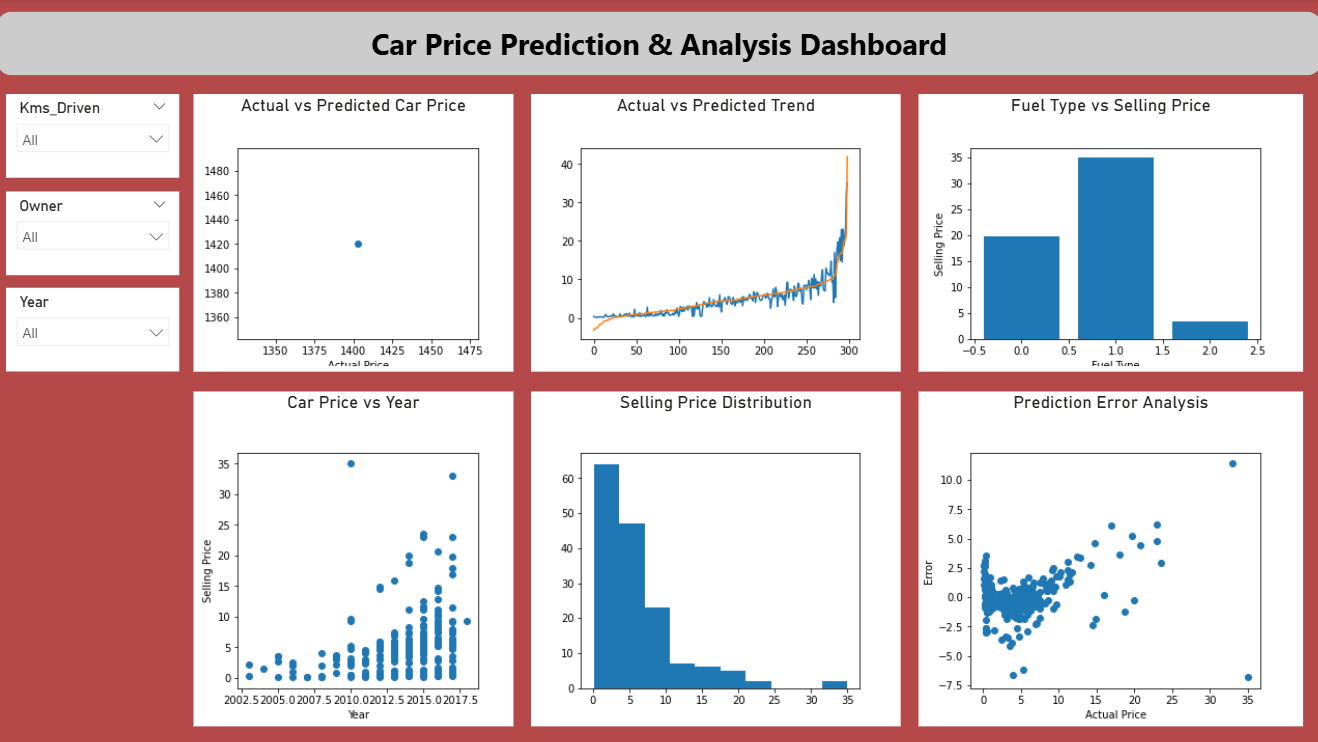

The page's visual inventory and layout, read from the dashboard file:
{"tool":"powerbi","page":{"name":"Car Price Prediction & Analysis Dashboard","canvas":[1280,720],"ordinal":0},"visuals":[{"type":"pythonVisual","title":"Actual vs Predicted Car Price","fields":{"Values":["Sum(car_data.Selling_Price)","Sum(car_data.Predicted_Price)"]},"box":[190.6,91.7,308.9,267.8],"z":0},{"type":"pythonVisual","title":"Actual vs Predicted Trend","fields":{"Values":["car_data.Predicted_Price","car_data.Selling_Price"]},"box":[516.4,91.7,357.1,267.8],"z":1000},{"type":"pythonVisual","title":"Fuel Type vs Selling Price","fields":{"Values":["car_data.Selling_Price","car_data.Fuel_Type"]},"box":[890.4,91.7,371.6,267.8],"z":2000},{"type":"pythonVisual","title":"Selling Price Distribution","fields":{"Values":["car_data.Selling_Price"]},"box":[516.4,378.8,357.1,323.3],"z":2001},{"type":"pythonVisual","title":"Prediction Error Analysis","fields":{"Values":["car_data.Selling_Price","car_data.Predicted_Price"]},"box":[890.4,378.8,371.6,323.3],"z":2002},{"type":"pythonVisual","title":"Car Price vs Year","fields":{"Values":["car_data.Year","car_data.Selling_Price"]},"box":[190.6,378.8,308.9,323.3],"z":2003},{"type":"shape","title":"Car Price Prediction & Analysis Dashboard","box":[0,12.3,1280.3,61.7],"z":2004},{"type":"slicer","fields":{"Values":["car_data.Kms_Driven"]},"box":[9.6,91.9,167.4,81],"z":2005},{"type":"slicer","fields":{"Values":["car_data.Owner"]},"box":[9.6,185.2,167.4,81],"z":2006},{"type":"slicer","fields":{"Values":["car_data.Year"]},"box":[9.6,278.6,167.4,81],"z":2007}]}

Visuals, with their boxes in screenshot pixels (x1, y1, x2, y2), scaled from the page's 1280x720 canvas onto the 1318x742 screenshot:
"Actual vs Predicted Car Price" pythonVisual: bbox=(196, 95, 514, 370)
"Actual vs Predicted Trend" pythonVisual: bbox=(532, 95, 899, 370)
"Fuel Type vs Selling Price" pythonVisual: bbox=(917, 95, 1299, 370)
"Selling Price Distribution" pythonVisual: bbox=(532, 390, 899, 724)
"Prediction Error Analysis" pythonVisual: bbox=(917, 390, 1299, 724)
"Car Price vs Year" pythonVisual: bbox=(196, 390, 514, 724)
"Car Price Prediction & Analysis Dashboard" shape: bbox=(0, 13, 1317, 76)
slicer - car_data.Kms_Driven: bbox=(10, 95, 182, 178)
slicer - car_data.Owner: bbox=(10, 191, 182, 274)
slicer - car_data.Year: bbox=(10, 287, 182, 371)
